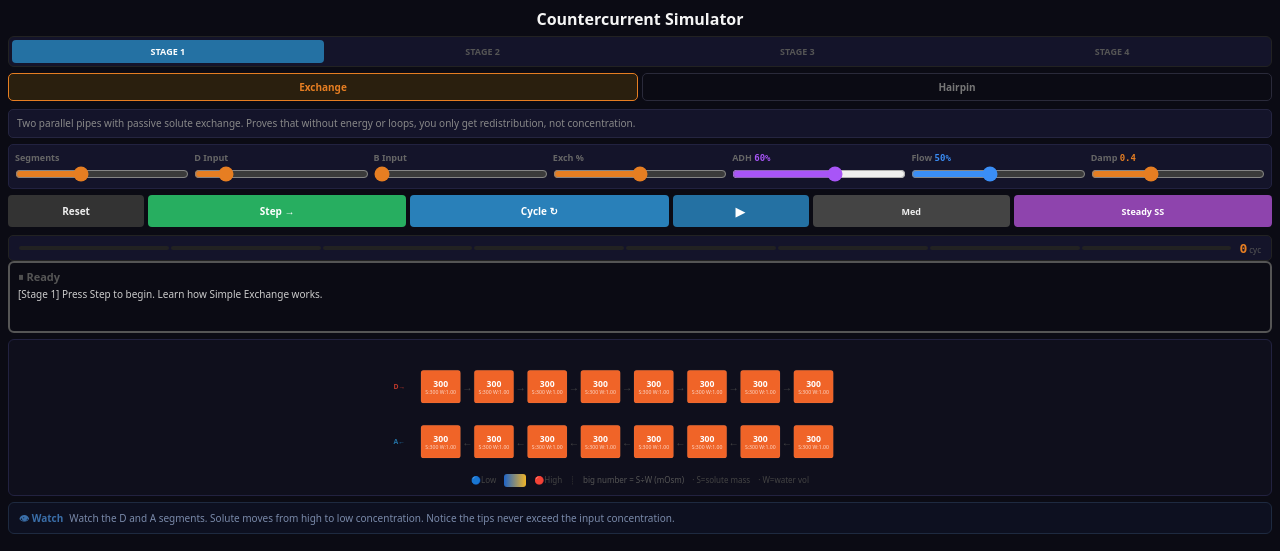
App › Step button advances phase
Expected: the text "⏸" is shown, [18,269,24,284]
Click the button "Step →". click: (277, 211)
box: [148,195,406,227]
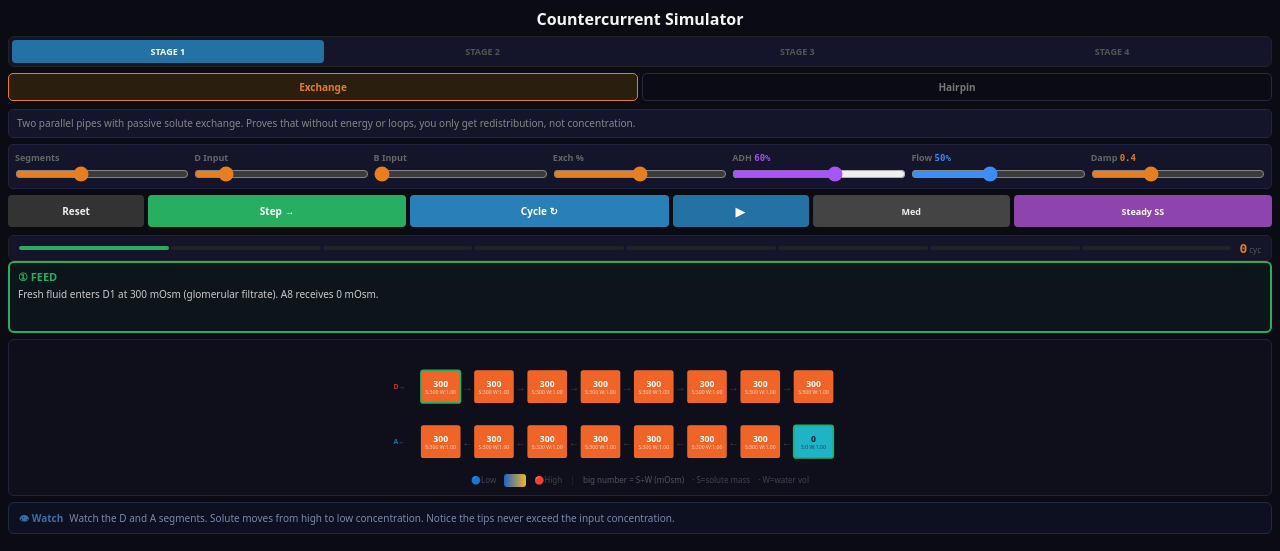
Now the text "①" is shown, box [18,269,28,284]
